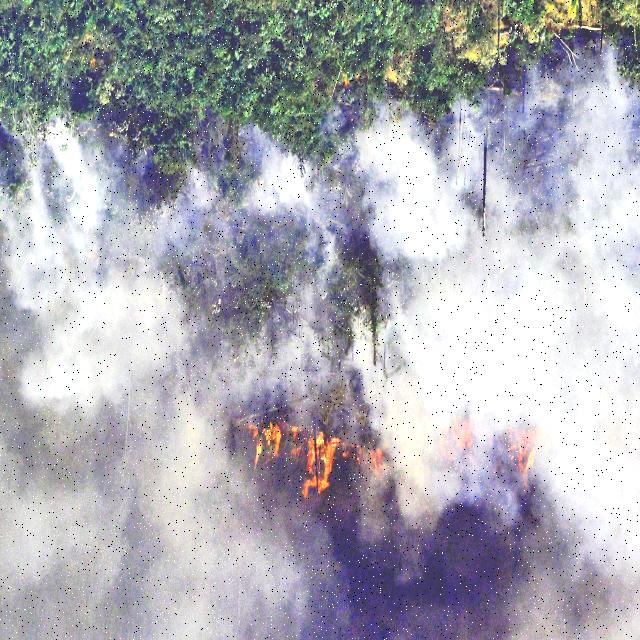api: (307, 430, 337, 493), (258, 421, 288, 459)
asap: (366, 41, 640, 640), (1, 128, 200, 640), (208, 137, 349, 413), (201, 487, 351, 639)
